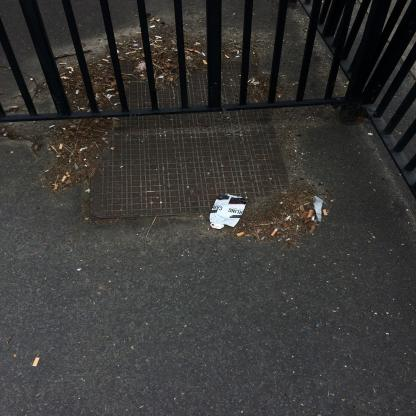trash: (208, 192, 249, 233), (312, 194, 326, 224)
